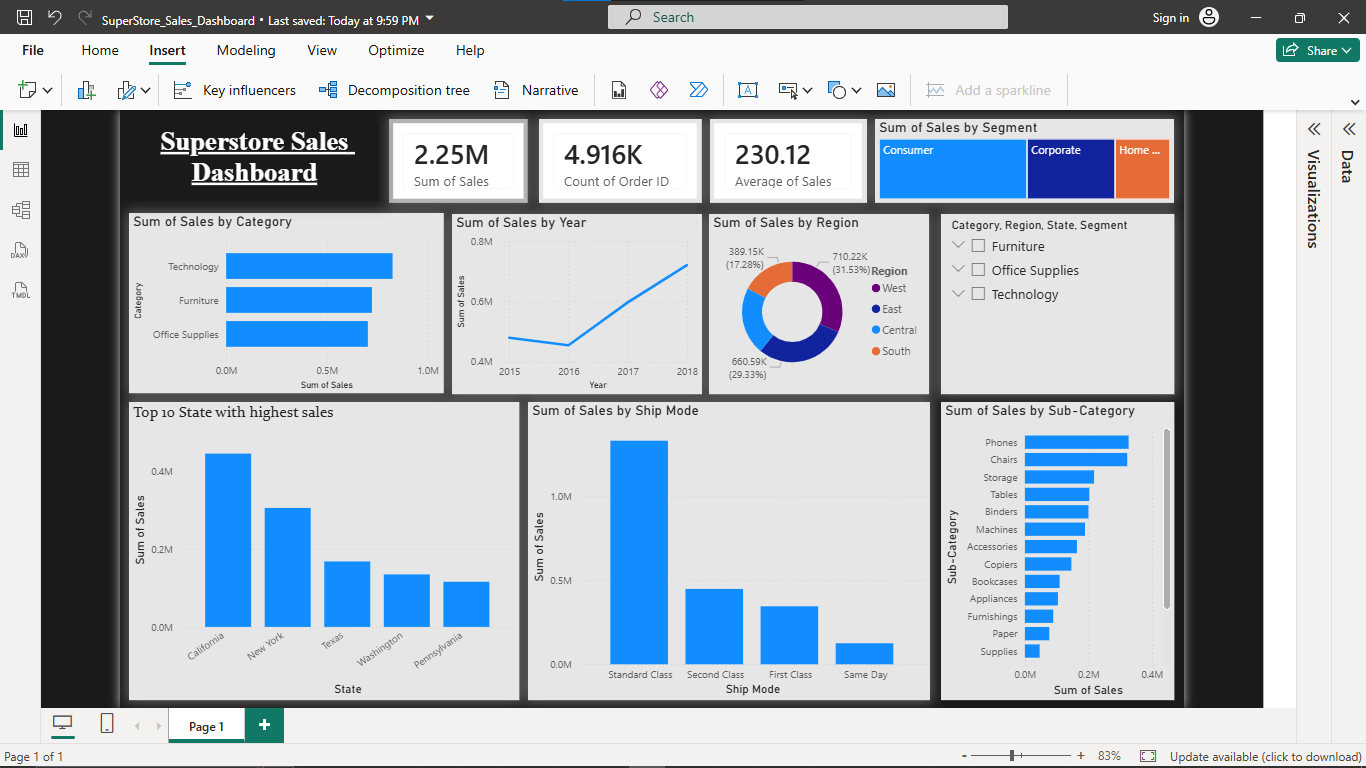

Layout of this report page (visuals, bound fields, positions):
{"tool":"powerbi","page":{"name":"Page 1","canvas":[1280,720],"ordinal":0},"visuals":[{"type":"cardVisual","fields":{"Data":["Sum(Cleaned_Superstore_Data.Sales)"]},"box":[324.3,11.4,167.1,101.4],"z":0},{"type":"cardVisual","fields":{"Data":["Count(Cleaned_Superstore_Data.Order ID)"]},"box":[504.3,11.4,195.7,101.4],"z":1},{"type":"cardVisual","fields":{"Data":["Avg(Cleaned_Superstore_Data.Sales)"]},"box":[710,11.4,188.6,101.4],"z":2},{"type":"clusteredBarChart","fields":{"Category":["Cleaned_Superstore_Data.Category"],"Y":["Sum(Cleaned_Superstore_Data.Sales)"]},"box":[11.4,124.3,378.6,217.1],"z":3},{"type":"lineChart","fields":{"Category":["Cleaned_Superstore_Data.Order Date.Variation.Date Hierarchy.Year","Cleaned_Superstore_Data.Order Date.Variation.Date Hierarchy.Quarter","Cleaned_Superstore_Data.Order Date.Variation.Date Hierarchy.Month","Cleaned_Superstore_Data.Order Date.Variation.Date Hierarchy.Day"],"Y":["Sum(Cleaned_Superstore_Data.Sales)"]},"box":[399.4,124.8,300.9,216.8],"z":4},{"type":"donutChart","fields":{"Category":["Cleaned_Superstore_Data.Region"],"Y":["Sum(Cleaned_Superstore_Data.Sales)"]},"box":[709.5,124.8,265.4,216.8],"z":5},{"type":"columnChart","title":"Top 10 State with highest  sales","fields":{"Category":["Cleaned_Superstore_Data.State"],"Y":["Sum(Cleaned_Superstore_Data.Sales)"]},"box":[10.8,351.6,469.6,358.8],"z":6},{"type":"treemap","fields":{"Group":["Cleaned_Superstore_Data.Segment"],"Values":["Sum(Cleaned_Superstore_Data.Sales)"]},"box":[908.6,11.4,360,101.4],"z":7},{"type":"columnChart","fields":{"Category":["Cleaned_Superstore_Data.Ship Mode"],"Y":["Sum(Cleaned_Superstore_Data.Sales)"]},"box":[491.2,351.6,484,358.8],"z":8},{"type":"slicer","fields":{"Values":["Cleaned_Superstore_Data.Category","Cleaned_Superstore_Data.Region","Cleaned_Superstore_Data.State","Cleaned_Superstore_Data.Segment"]},"box":[988,124.8,281.2,216.8],"z":9},{"type":"textbox","box":[11.8,14.5,299.6,94.6],"z":10},{"type":"barChart","fields":{"Category":["Cleaned_Superstore_Data.Sub-Category"],"Y":["Sum(Cleaned_Superstore_Data.Sales)"]},"box":[988,352,281,359],"z":11}]}

Visuals, with their boxes on the page's 1280x720 design canvas (x1, y1, x2, y2). These are canvas units, not pixel positions in the 1366x768 screenshot, which may show the page scaled, cropped or inside an application window:
cardVisual - Sum(Cleaned_Superstore_Data.Sales): 324,11,491,113
cardVisual - Count(Cleaned_Superstore_Data.Order ID): 504,11,700,113
cardVisual - Avg(Cleaned_Superstore_Data.Sales): 710,11,899,113
clusteredBarChart - Cleaned_Superstore_Data.Category x Sum(Cleaned_Superstore_Data.Sales): 11,124,390,341
lineChart - Cleaned_Superstore_Data.Order Date.Variation.Date Hierarchy.Year x Cleaned_Superstore_Data.Order Date.Variation.Date Hierarchy.Quarter: 399,125,700,342
donutChart - Cleaned_Superstore_Data.Region x Sum(Cleaned_Superstore_Data.Sales): 710,125,975,342
"Top 10 State with highest  sales" columnChart: 11,352,480,710
treemap - Cleaned_Superstore_Data.Segment x Sum(Cleaned_Superstore_Data.Sales): 909,11,1269,113
columnChart - Cleaned_Superstore_Data.Ship Mode x Sum(Cleaned_Superstore_Data.Sales): 491,352,975,710
slicer - Cleaned_Superstore_Data.Category x Cleaned_Superstore_Data.Region: 988,125,1269,342
textbox: 12,14,311,109
barChart - Cleaned_Superstore_Data.Sub-Category x Sum(Cleaned_Superstore_Data.Sales): 988,352,1269,711
